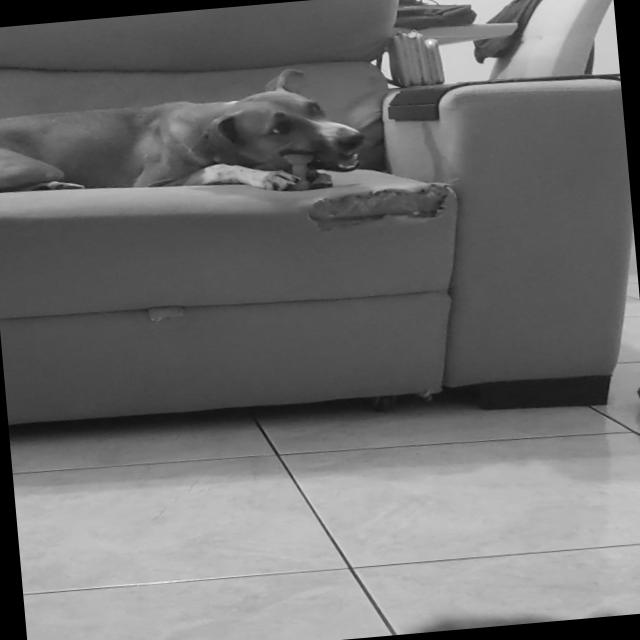laying down: (0, 63, 374, 227)
